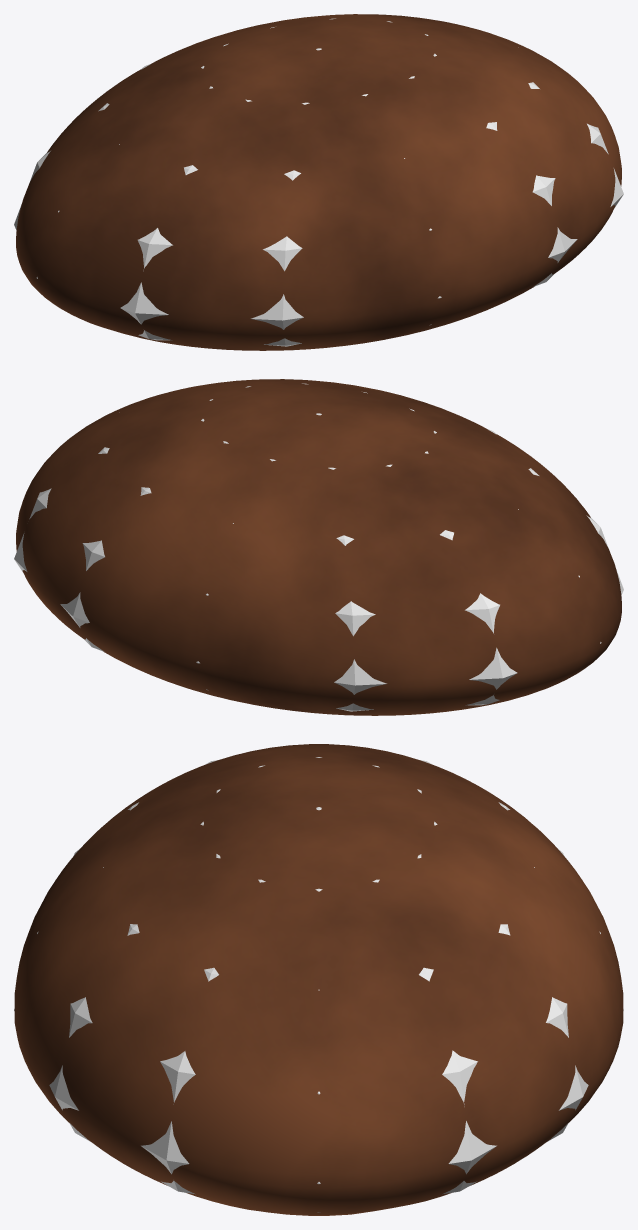
The model's file is SM_Seed.fbx.
The picture shows the model from 3 angles, top to bottom: view 1: azimuth 30°, elevation 25°; view 2: azimuth 150°, elevation 25°; view 3: azimuth 270°, elevation 25°; orthographic projection. The views are drawn at different scales.
Parts seen in each view (by area): view 1: SM_Seed, SM_Seed_Col; view 2: SM_Seed, SM_Seed_Col; view 3: SM_Seed, SM_Seed_Col.
Boxes of the visible parts, x1=… form: SM_Seed: x1=16, y1=14, x2=621, y2=350; SM_Seed_Col: x1=14, y1=18, x2=623, y2=350; SM_Seed: x1=16, y1=379, x2=621, y2=715; SM_Seed_Col: x1=14, y1=383, x2=623, y2=715; SM_Seed: x1=14, y1=744, x2=623, y2=1215; SM_Seed_Col: x1=14, y1=757, x2=623, y2=1212.
Bounding box in the file's own units: 0.35 × 0.1473 × 0.26.
